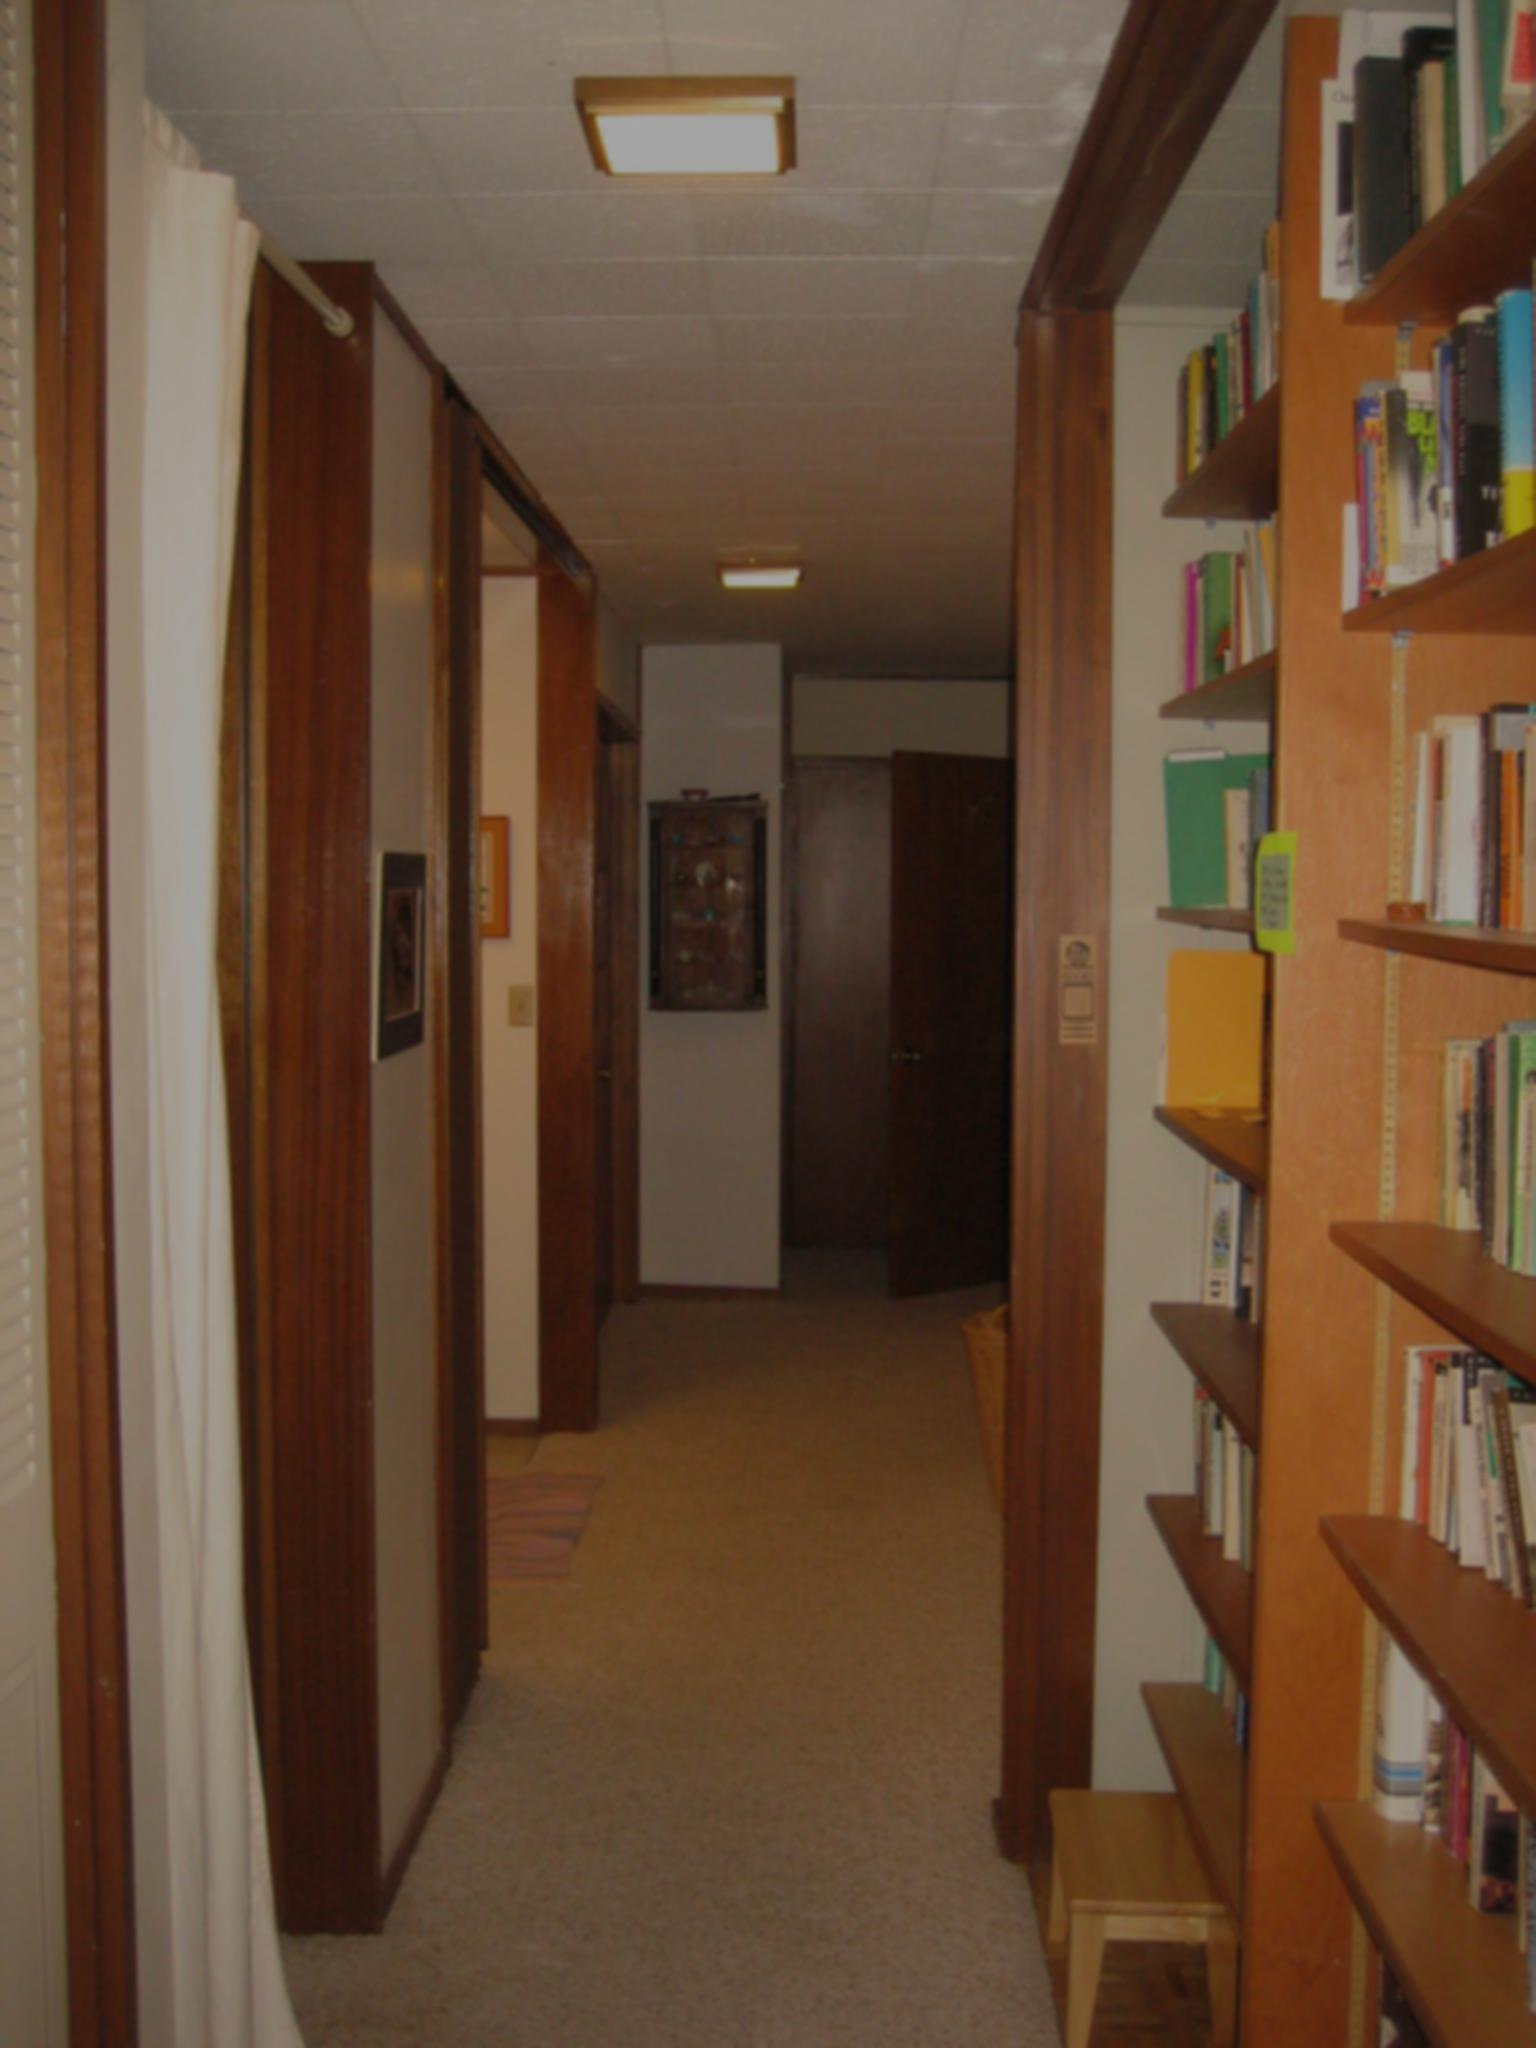Puerta: (812, 753, 1005, 1292)
